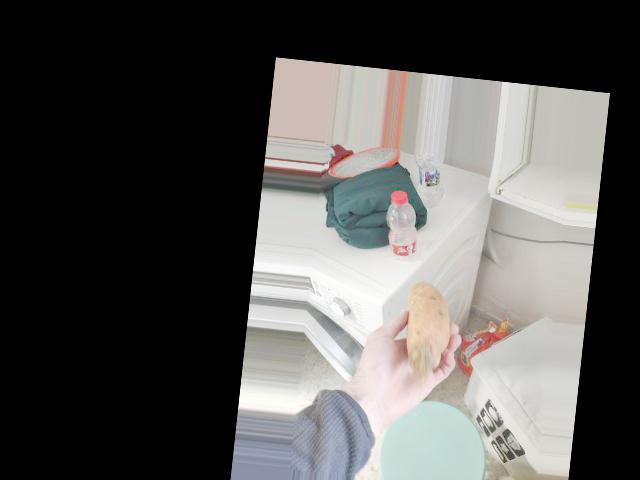sweet_potato: (403, 259, 453, 369)
